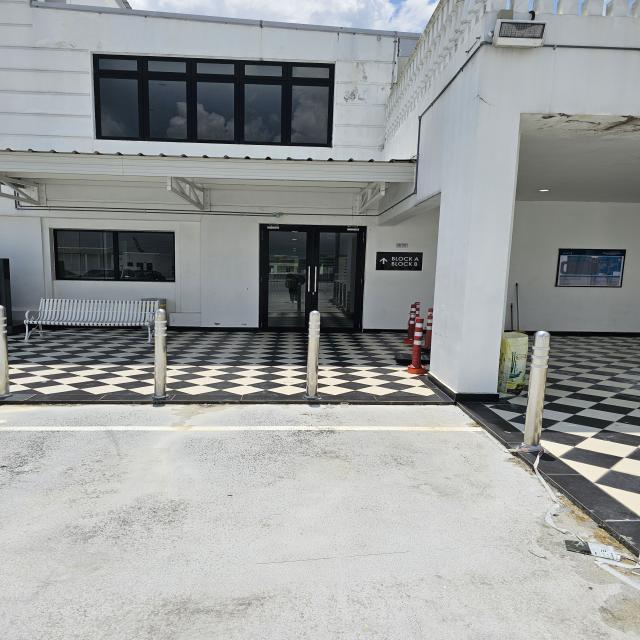closed_door: (258, 223, 366, 332)
footpath: (0, 403, 493, 640)
obstacle: (20, 292, 161, 343), (520, 330, 550, 454), (147, 306, 178, 400), (405, 302, 434, 374), (303, 308, 323, 398)
